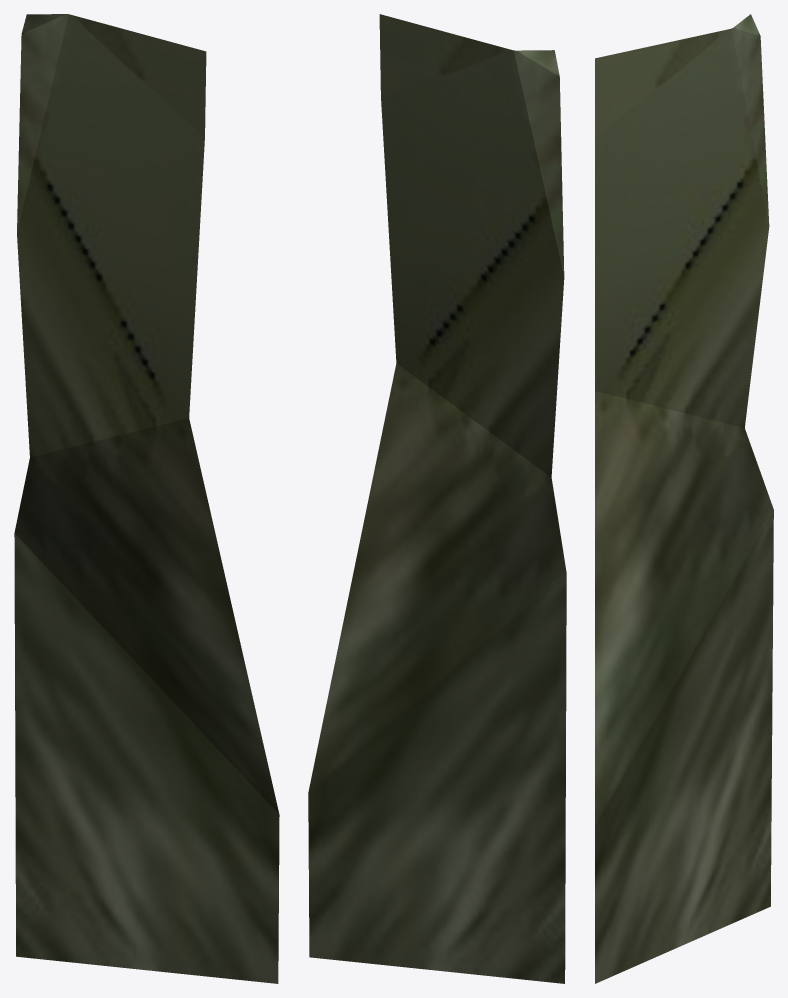
The picture shows the model from 3 angles, left to right: view 1: azimuth 30°, elevation 25°; view 2: azimuth 210°, elevation 25°; view 3: azimuth 270°, elevation 25°; orthographic projection. The views are drawn at different scales.
Size of the model in its own units: 0.5519 by 2.95 by 0.5355.
Materials: 1 (1 with a texture image).
